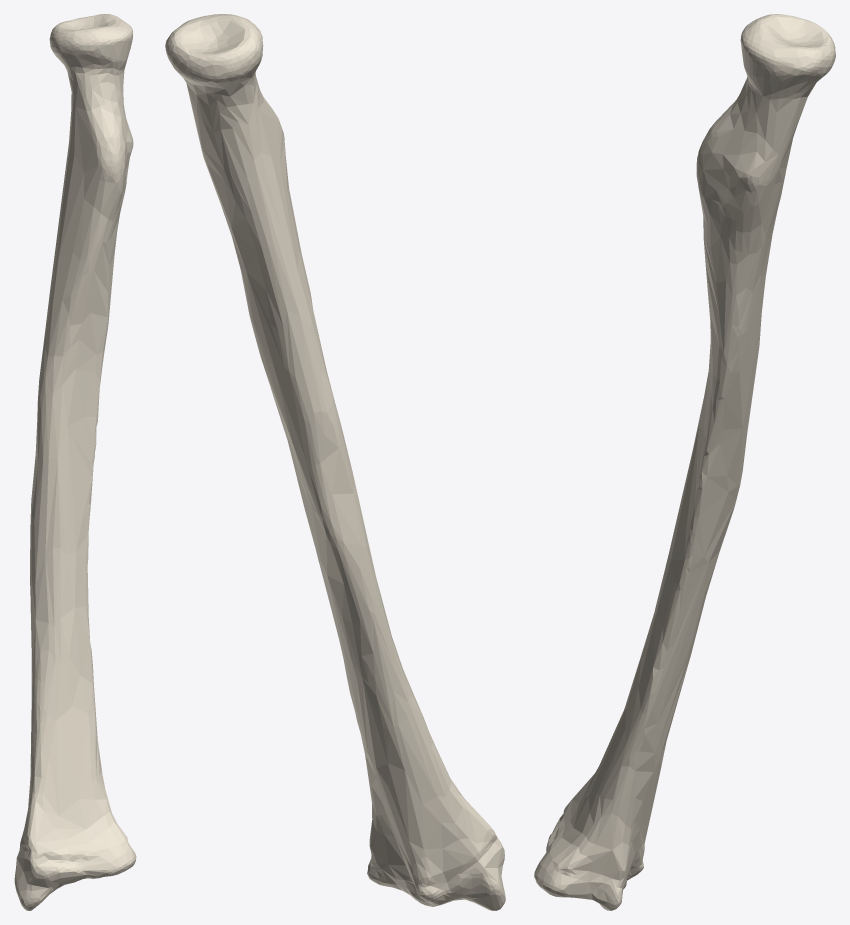
Rendered from radius_right.glb.
3 views of the same model, side by side, from view 1: azimuth 30°, elevation 25°; view 2: azimuth 150°, elevation 25°; view 3: azimuth 270°, elevation 25° (orthographic). The views are drawn at different scales.
Bounding box in the file's own units: 0.06 × 0.2294 × 0.0668.
